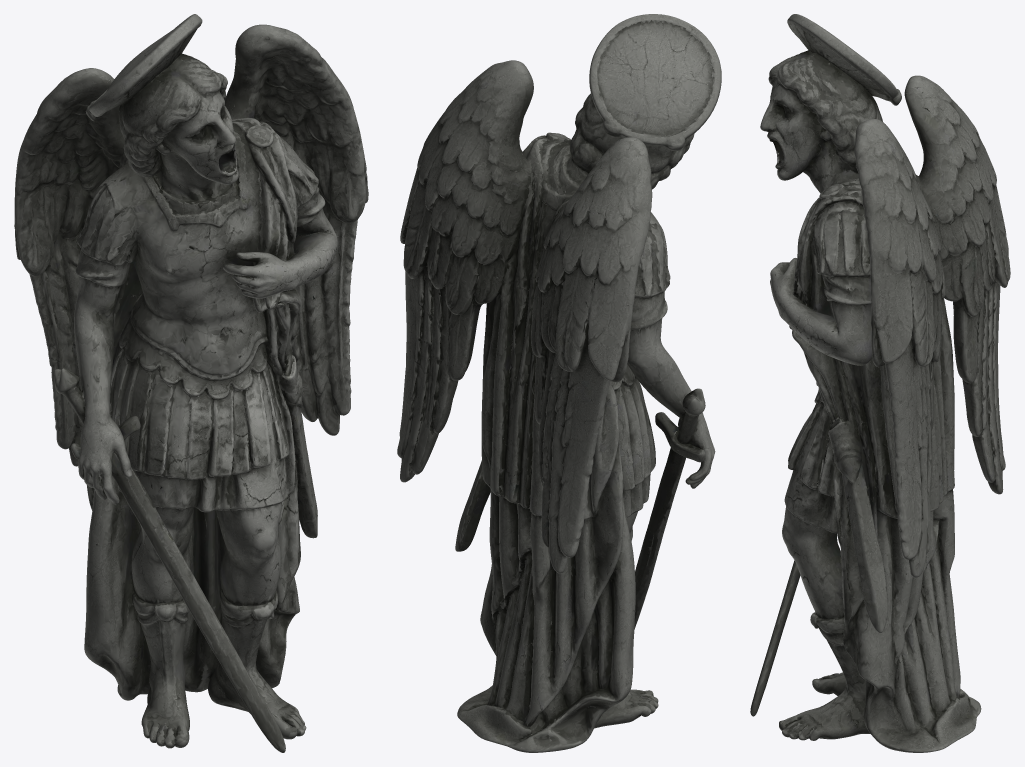
The model's file is saint_michael_model.glb.
3 views of the same model, side by side, from view 1: azimuth 30°, elevation 25°; view 2: azimuth 150°, elevation 25°; view 3: azimuth 270°, elevation 25° (orthographic). The views are drawn at different scales.
Bounding box in the file's own units: 0.8594 × 1.9 × 0.6688.
1 material, 1 textured.
